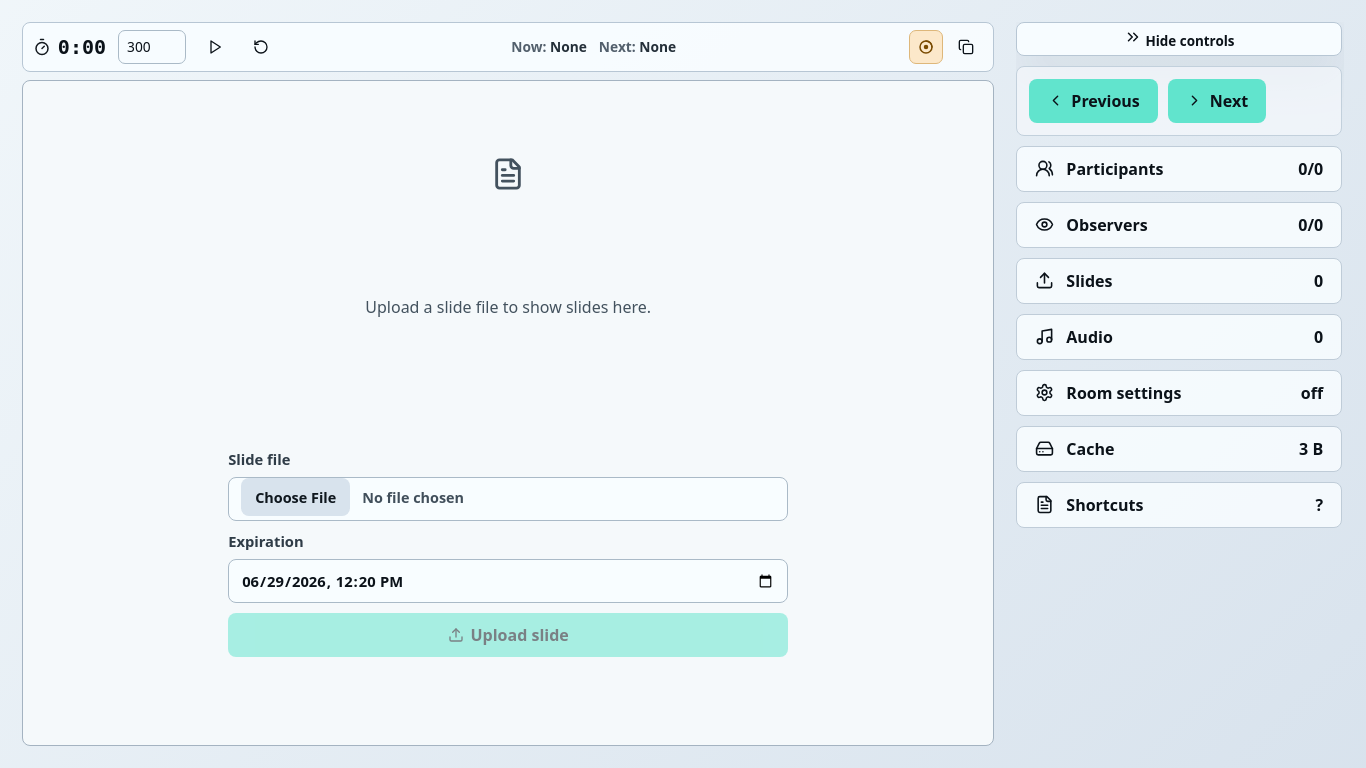
Test: App landing polish › lets moderators restore cached audio into the current room
Click the button "Cache 3 B".
click(1090, 449)  # box [1017,427,1341,471]
(page scrolled)
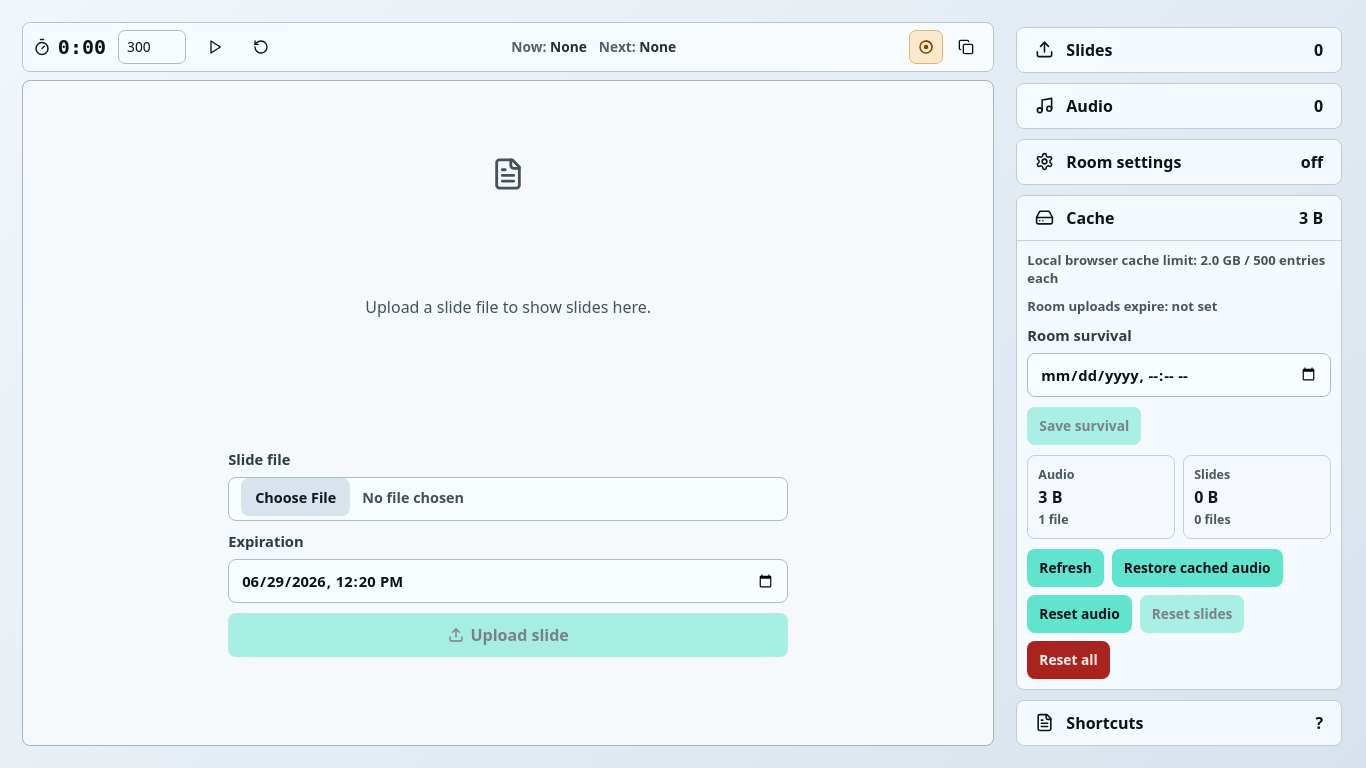
Click the button "Restore cached audio".
click(1197, 568)  # box [1112,549,1283,587]
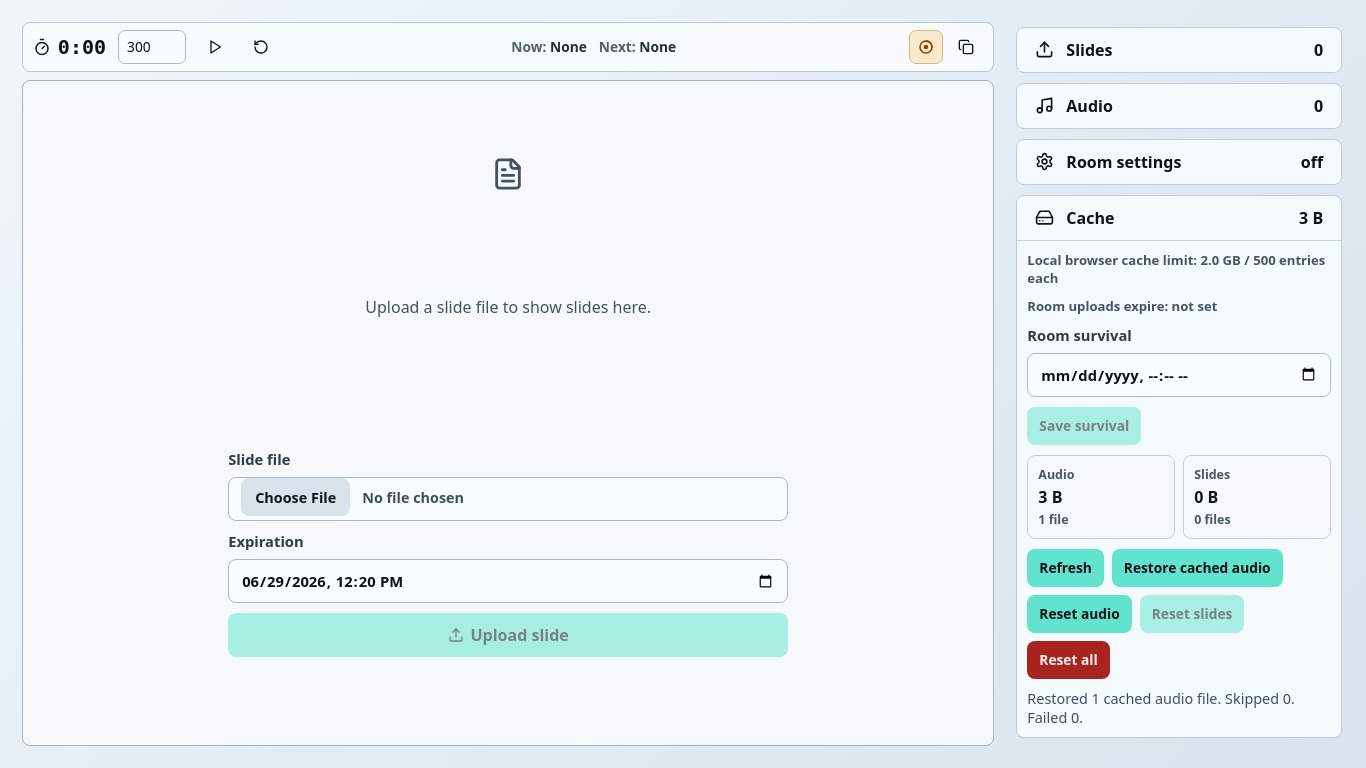
Expected: the text "Restored 1 cached audio file. Skipped 0. Failed 0." is shown, [1027,689,1331,727]
